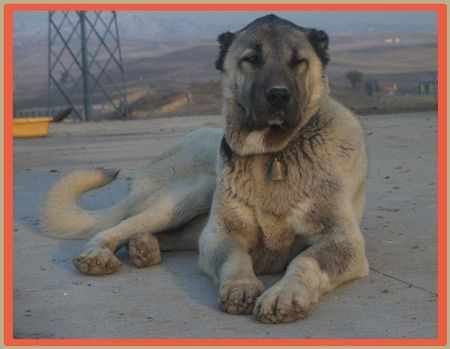kangal: (39, 14, 371, 324)
